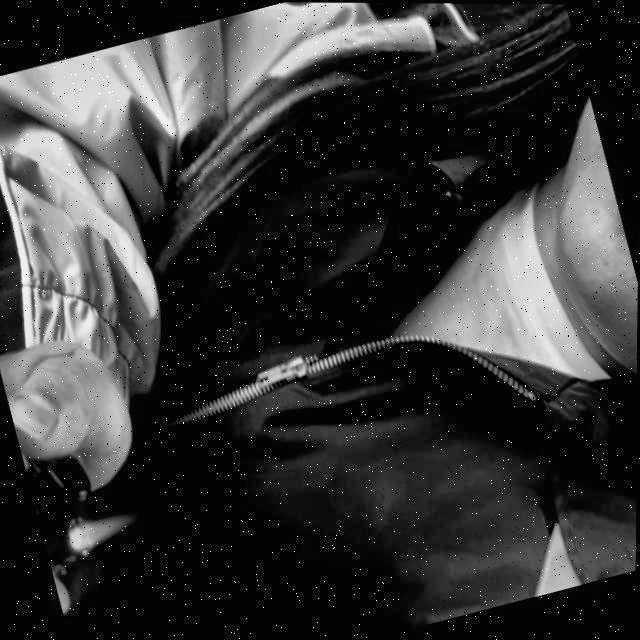Fire: (66, 504, 150, 555)
